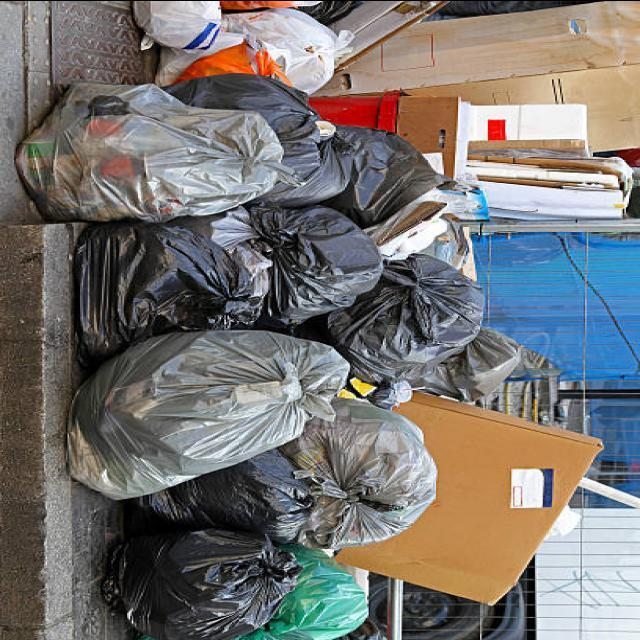Trashbag: (178, 79, 354, 221), (68, 225, 252, 359), (100, 524, 302, 640), (137, 449, 304, 534), (361, 263, 488, 372), (272, 211, 388, 324), (339, 125, 448, 232)
